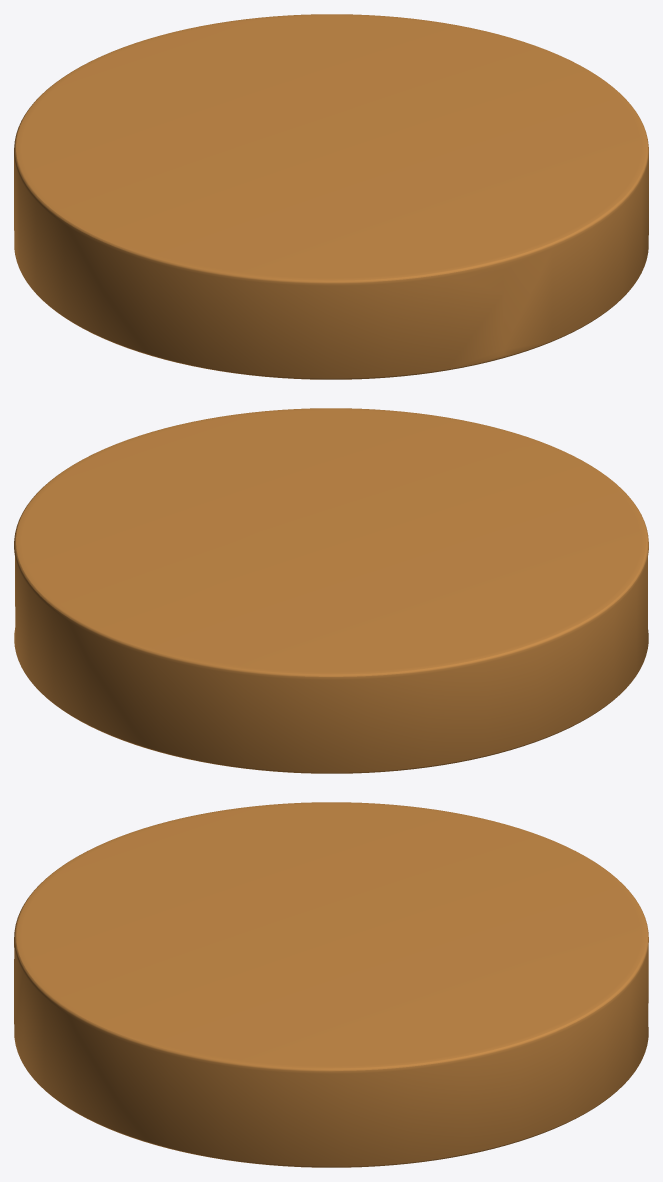
Rendered from pedestal.glb.
3 views of the same model, one above another, from view 1: azimuth 30°, elevation 25°; view 2: azimuth 150°, elevation 25°; view 3: azimuth 270°, elevation 25° (orthographic).
Parts seen in each view (by area): view 1: PedestalMesh; view 2: PedestalMesh; view 3: PedestalMesh.
Boxes of the visible parts, x1,y1,x2,y2 form: PedestalMesh: [14, 14, 648, 379]; PedestalMesh: [14, 408, 648, 773]; PedestalMesh: [14, 802, 648, 1167].
Bounding box in the file's own units: 99.42 × 17.23 × 99.42.
